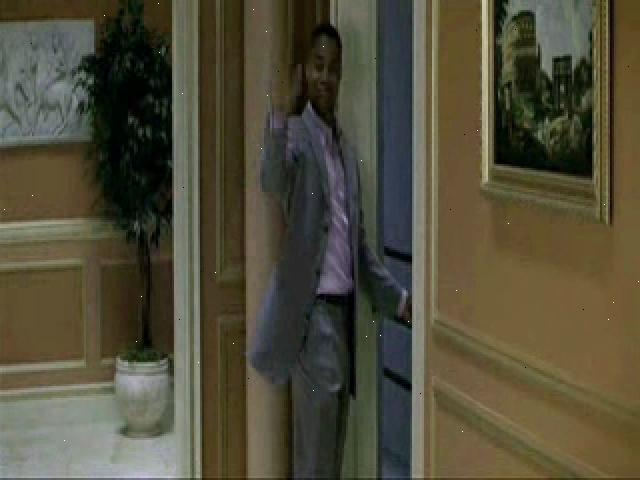T: (250, 17, 418, 480)
